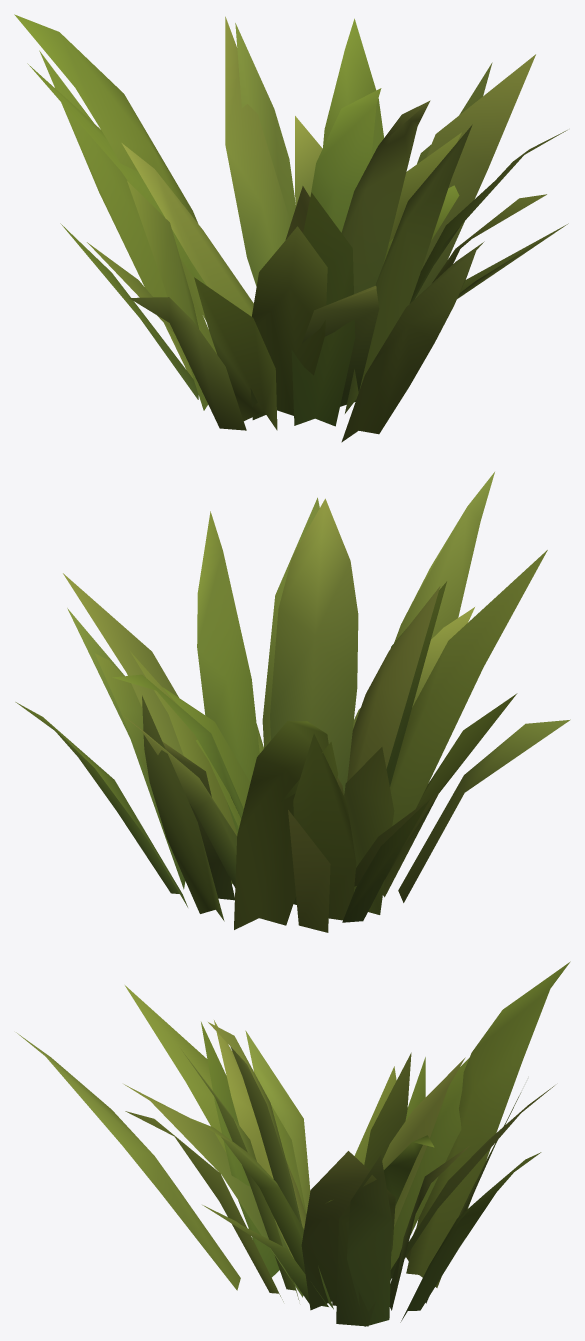
Rendered from grass_dense.glb.
The picture shows the model from 3 angles, top to bottom: view 1: azimuth 30°, elevation 25°; view 2: azimuth 150°, elevation 25°; view 3: azimuth 270°, elevation 25°; orthographic projection. The views are drawn at different scales.
Parts seen in each view (by area): view 1: Plant; view 2: Plant; view 3: Plant.
Part boxes in pixels (<box>): Plant: <box>14,14,568,442</box>; Plant: <box>15,472,570,932</box>; Plant: <box>16,961,570,1326</box>.
Size of the model in its own units: 0.6398 by 0.4475 by 0.7874.
